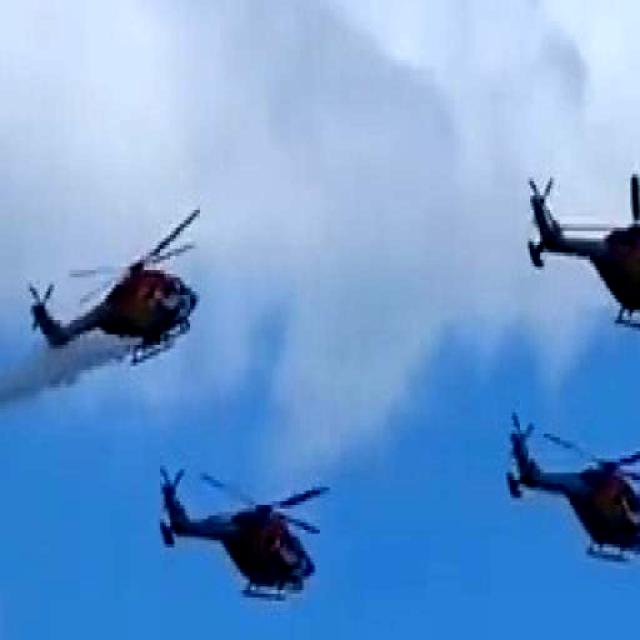drone: (25, 209, 212, 378), (146, 449, 334, 611), (504, 409, 640, 568), (526, 165, 640, 345)
